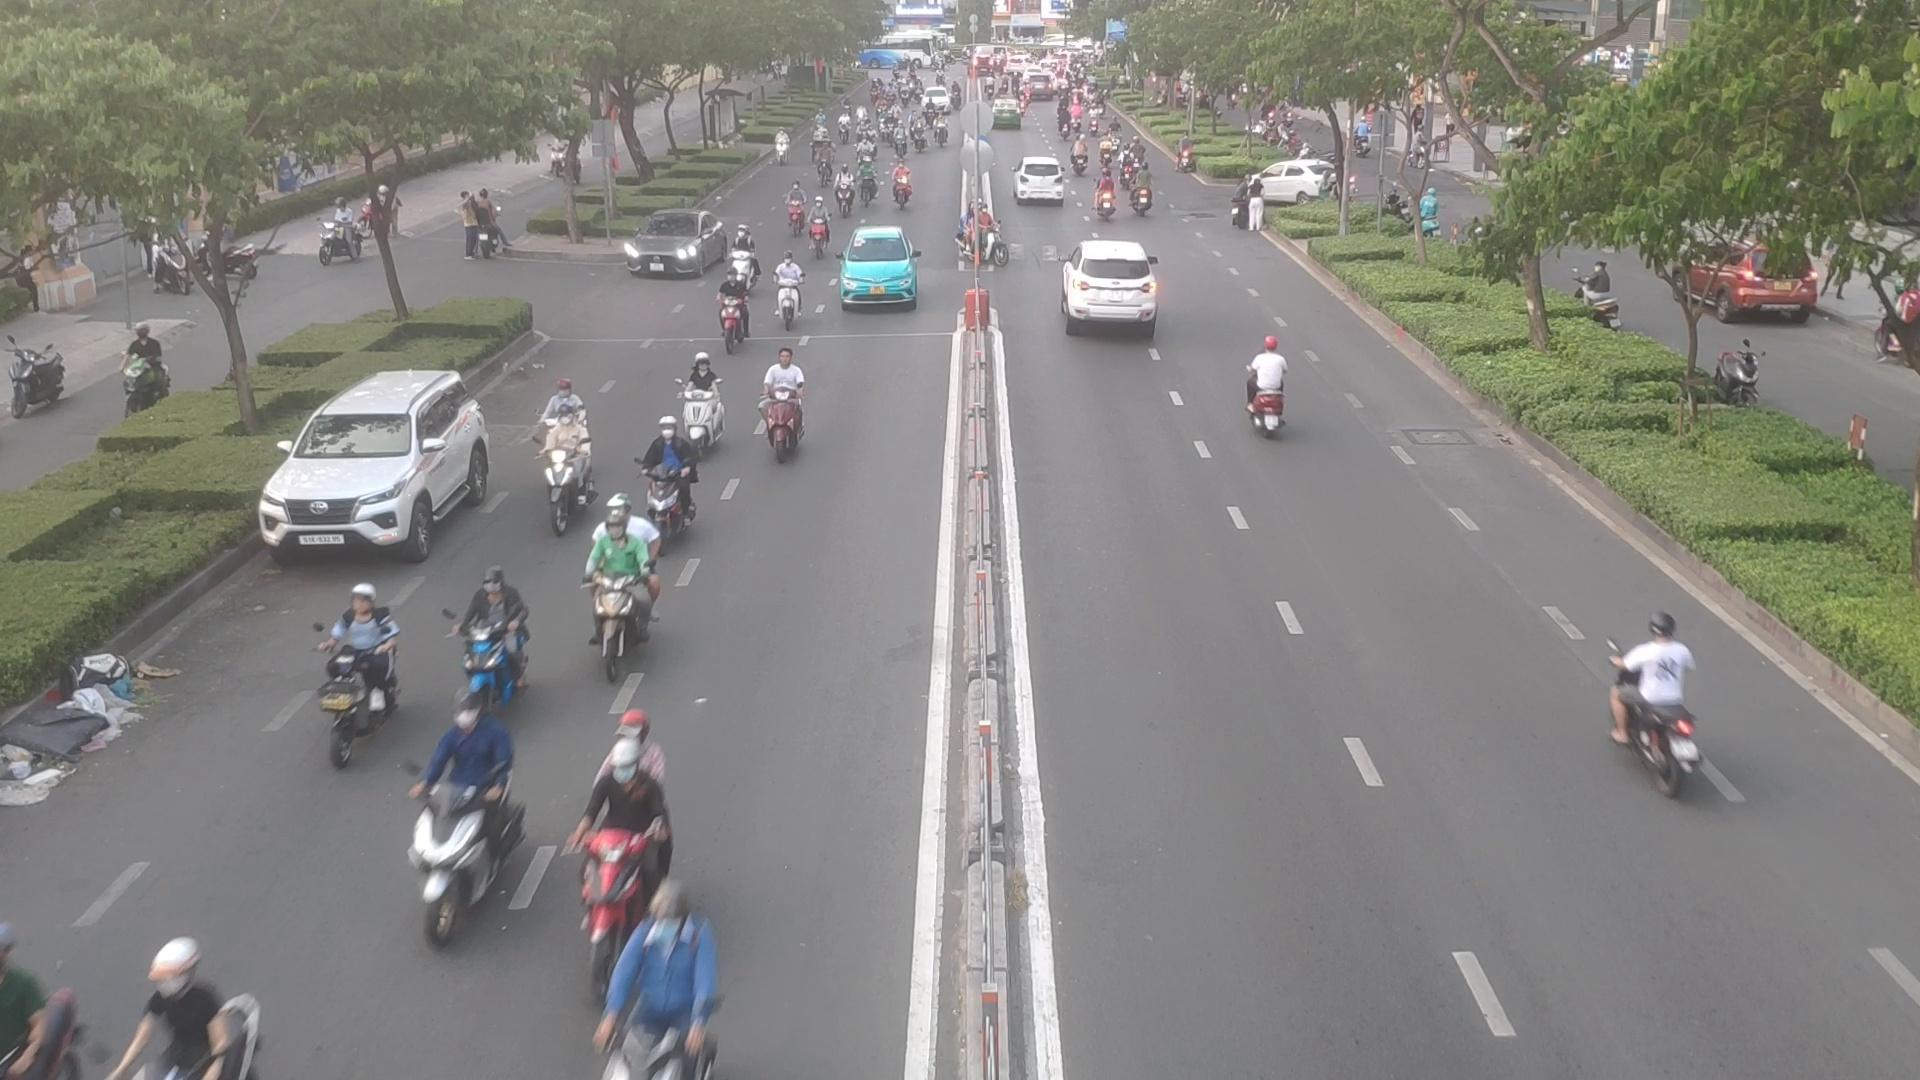car: (258, 369, 498, 568), (1068, 239, 1166, 324), (622, 212, 736, 280), (833, 224, 919, 313), (1013, 156, 1073, 207)
motorbike: (390, 692, 543, 930), (593, 891, 775, 1079), (541, 724, 678, 951), (1607, 608, 1704, 807), (294, 588, 400, 765), (431, 574, 541, 717), (588, 485, 647, 682), (753, 349, 816, 473), (644, 407, 698, 525), (543, 406, 593, 516), (1240, 334, 1291, 436), (684, 359, 723, 454), (716, 269, 752, 349), (963, 204, 1004, 269), (769, 252, 803, 326), (807, 191, 837, 264), (732, 219, 760, 286), (1095, 169, 1122, 224), (1135, 160, 1160, 220), (855, 158, 882, 208), (833, 164, 855, 222), (893, 158, 915, 206), (890, 119, 913, 160), (789, 182, 802, 240), (814, 145, 831, 185), (770, 127, 790, 160), (1120, 152, 1137, 185), (857, 136, 872, 166)
